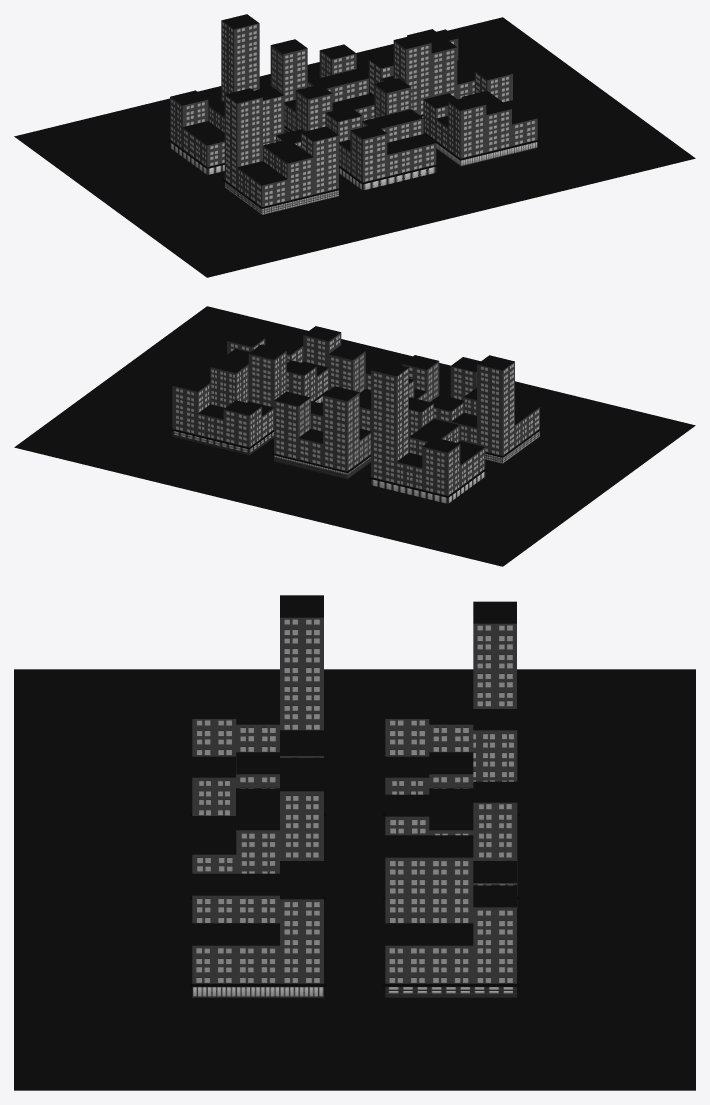
File: City_Base.FBX
3 renders of one model, top to bottom at view 1: azimuth 30°, elevation 25°; view 2: azimuth 150°, elevation 25°; view 3: azimuth 270°, elevation 25°, orthographic. The views are drawn at different scales.
Parts seen in each view (by area): view 1: City_Ground, Building_003, Building_002, Building_004, Building_01, Building_005, Building_006; view 2: City_Ground, Building_004, Building_006, Building_005, Building_003, Building_01, Building_002; view 3: City_Ground, Building_006, Building_01, Building_003, Building_002, Building_004, Building_005.
Boxes of the visible parts, left/top/right/bottom form: City_Ground: left=14, top=17, right=695, bottom=277; Building_003: left=223, top=88, right=340, bottom=214; Building_002: left=325, top=78, right=437, bottom=190; Building_004: left=168, top=14, right=284, bottom=174; Building_01: left=423, top=65, right=539, bottom=166; Building_005: left=270, top=39, right=374, bottom=133; Building_006: left=368, top=29, right=474, bottom=117; City_Ground: left=14, top=306, right=695, bottom=566; Building_004: left=369, top=361, right=487, bottom=503; Building_006: left=170, top=344, right=286, bottom=455; Building_005: left=272, top=386, right=370, bottom=479; Building_003: left=430, top=355, right=541, bottom=463; Building_01: left=227, top=326, right=341, bottom=403; Building_002: left=328, top=345, right=439, bottom=401; City_Ground: left=14, top=669, right=695, bottom=1090; Building_006: left=383, top=794, right=519, bottom=997; Building_01: left=190, top=832, right=326, bottom=997; Building_003: left=190, top=595, right=326, bottom=815; Building_002: left=190, top=756, right=325, bottom=899; Building_004: left=383, top=601, right=519, bottom=815; Building_005: left=383, top=709, right=519, bottom=909.
Bounding box in the file's own units: 24468 × 5496 × 16743.
Materials: 8 (6 with a texture image).
